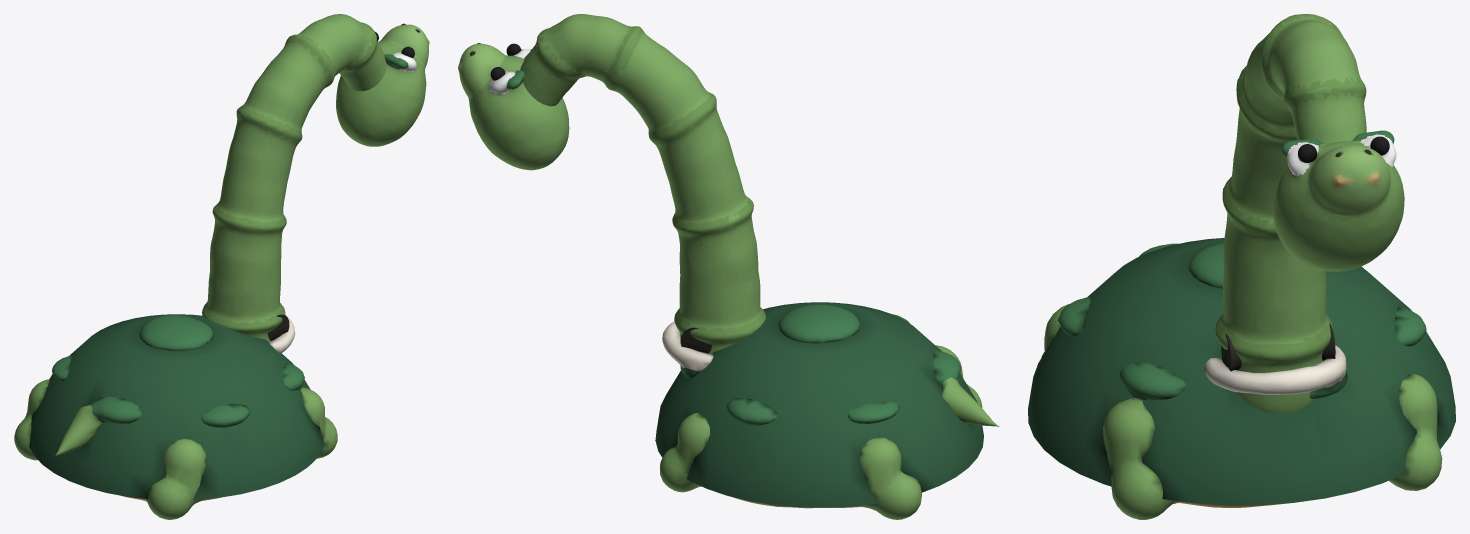
The model's file is kan-du-prata-lite-langsammare.glb.
The picture shows the model from 3 angles, left to right: view 1: azimuth 30°, elevation 25°; view 2: azimuth 150°, elevation 25°; view 3: azimuth 270°, elevation 25°; orthographic projection. The views are drawn at different scales.
Parts seen in each view (by area): view 1: corpo__r1, pescoco__r0, corpo__r0, cabeca__r0; view 2: corpo__r1, pescoco__r0, corpo__r0, cabeca__r0; view 3: corpo__r1, pescoco__r0, corpo__r0, cabeca__r0.
Part boxes in pixels (x1,y1,x2,y2): corpo__r1: [29, 314, 323, 499]; pescoco__r0: [202, 14, 386, 341]; corpo__r0: [14, 314, 337, 519]; cabeca__r0: [336, 24, 429, 146]; corpo__r1: [655, 302, 983, 507]; pescoco__r0: [520, 14, 765, 354]; corpo__r0: [660, 304, 999, 519]; cabeca__r0: [458, 43, 569, 170]; corpo__r1: [1028, 238, 1455, 505]; pescoco__r0: [1215, 14, 1366, 413]; corpo__r0: [1041, 242, 1442, 519]; cabeca__r0: [1273, 130, 1404, 271].
Bounding box in the file's own units: 2.06 × 1.73 × 1.24.
